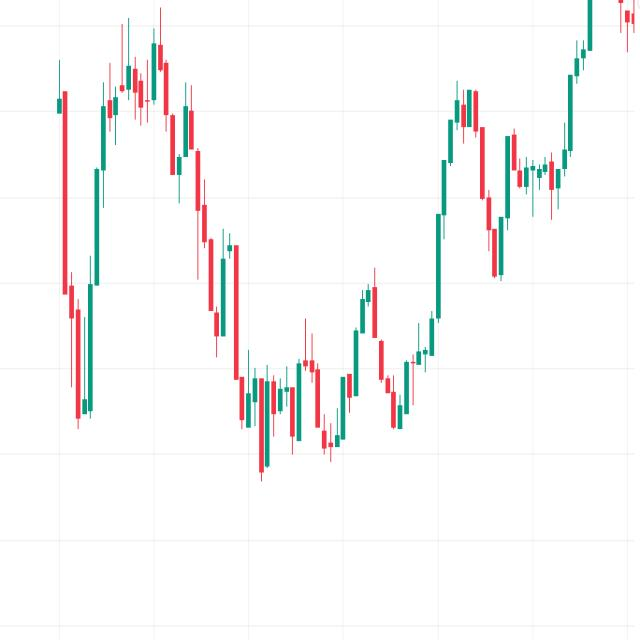Triple-Bottom: (230, 270, 446, 480)
